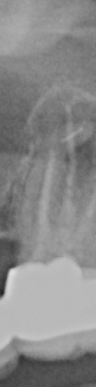fracture: (57, 125, 83, 145)
